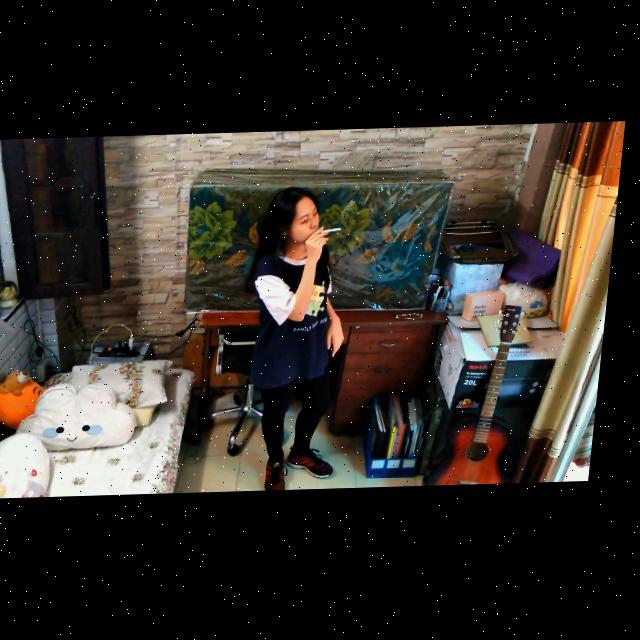cigarette: (326, 230, 346, 235)
